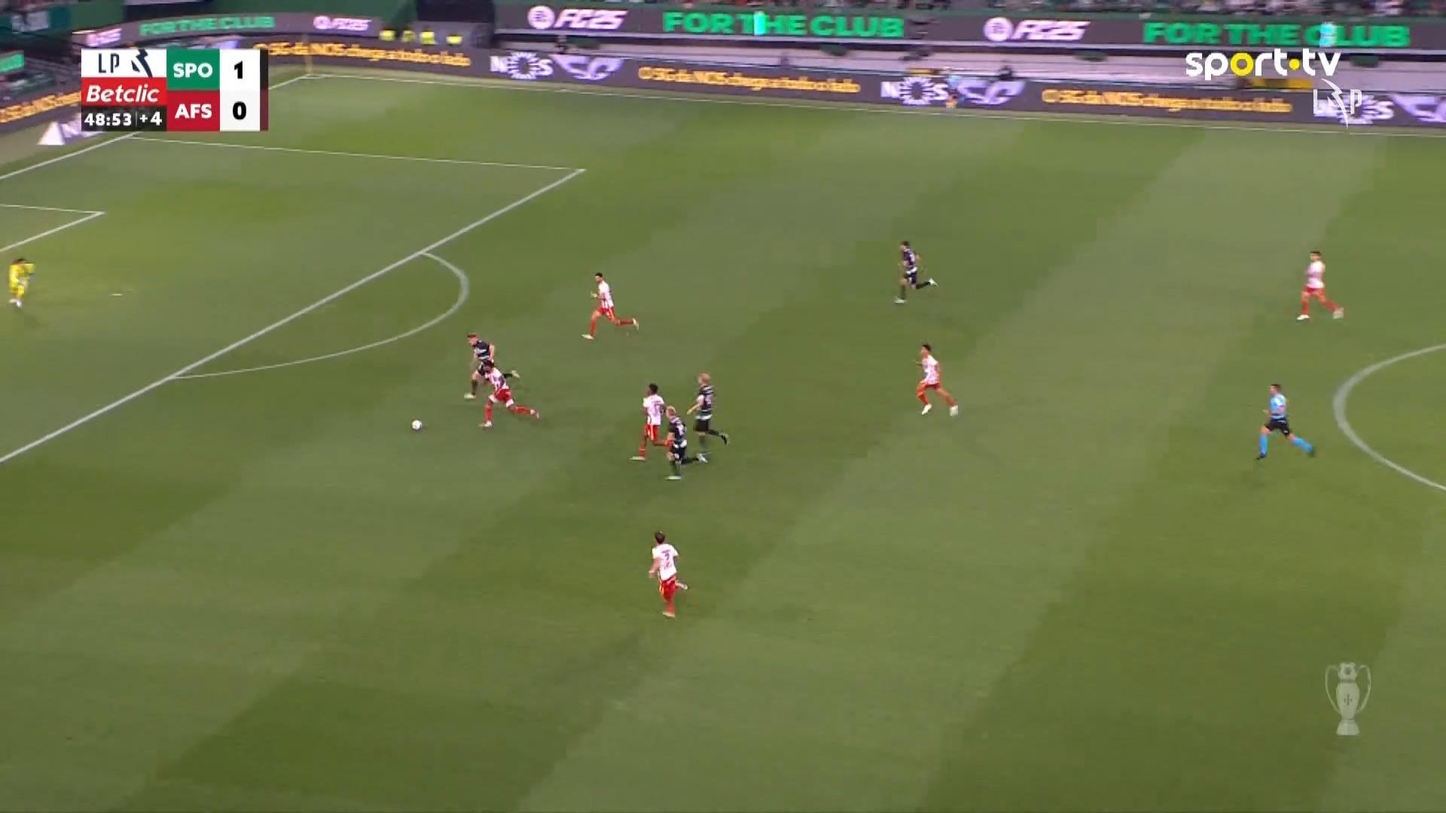ball: (410, 419, 422, 431)
goalkeeper: (7, 256, 35, 307)
player: (474, 358, 540, 428), (581, 271, 639, 340), (462, 330, 520, 399), (685, 372, 728, 462), (647, 530, 688, 617), (1295, 249, 1344, 321), (913, 342, 959, 416), (630, 382, 667, 461), (893, 239, 937, 304), (655, 404, 689, 480)
referee: (1253, 382, 1314, 461), (942, 71, 967, 115)
